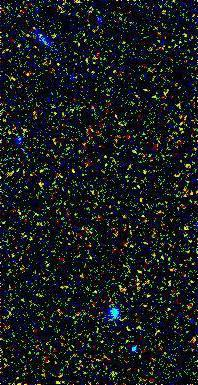star: (181, 323, 198, 353)
